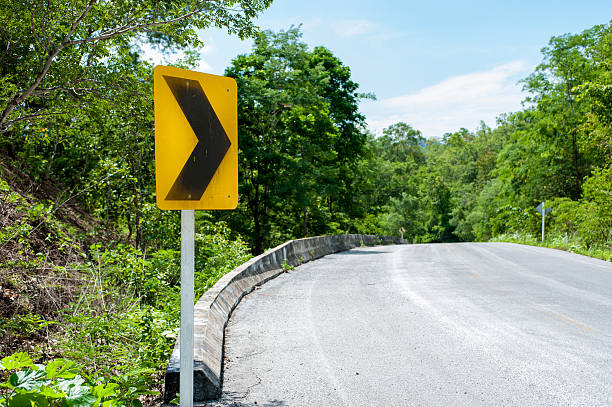right turn: (152, 67, 235, 207)
